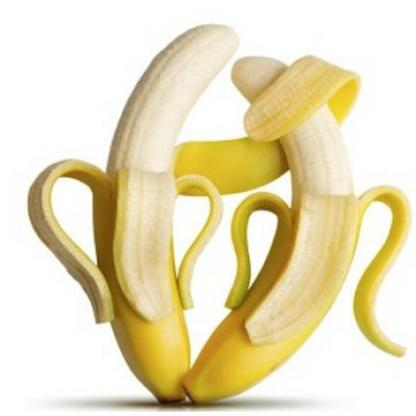banana: (92, 17, 252, 401), (186, 57, 356, 408)
